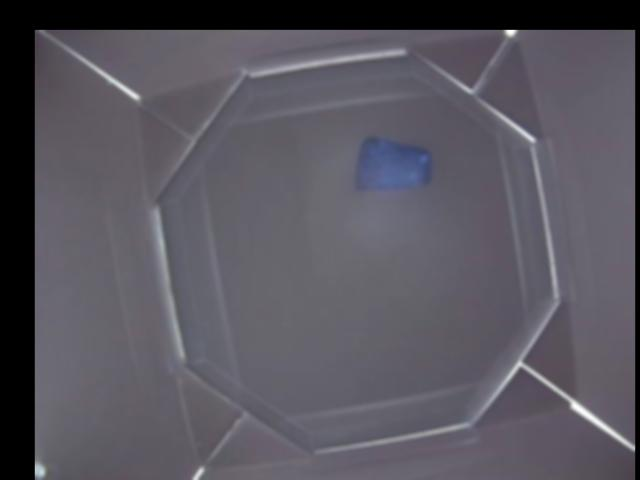Mooli: (354, 134, 434, 189)
